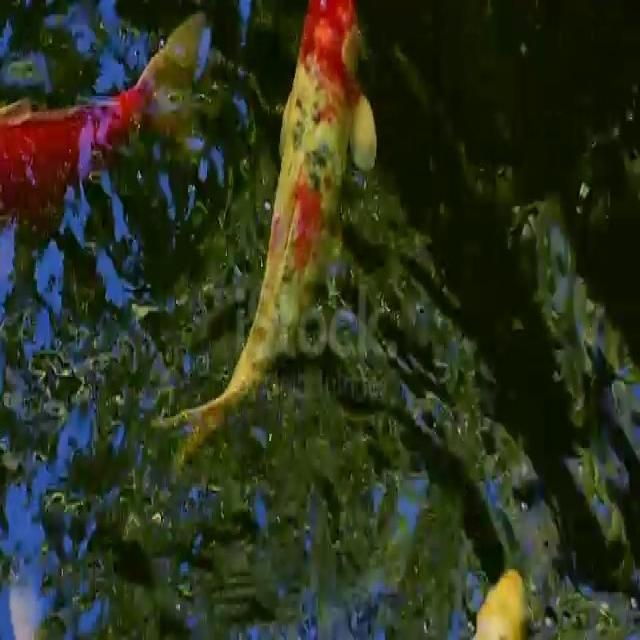fish: (224, 0, 391, 441), (453, 552, 531, 640)
